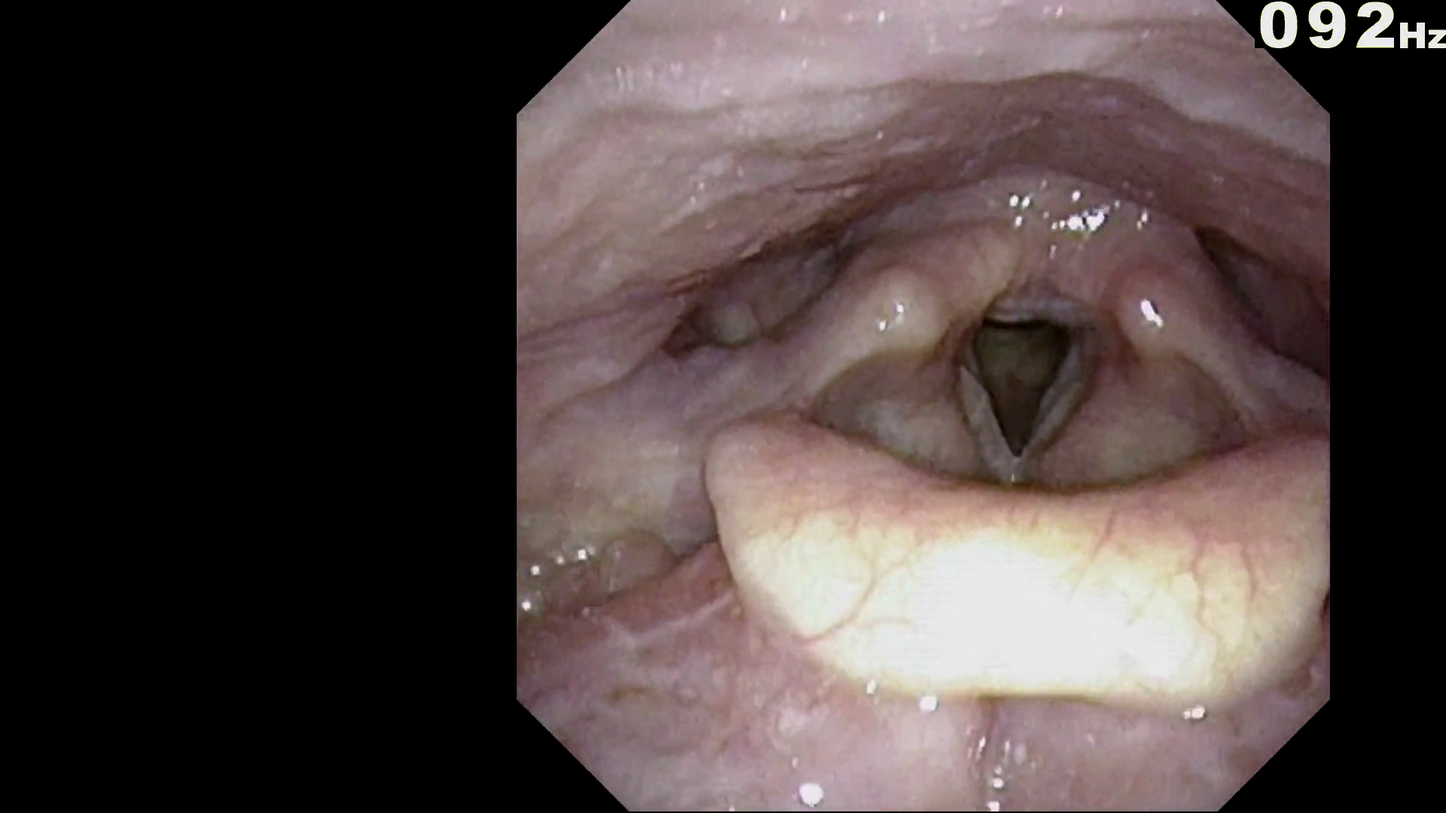epiglottis: (694, 399, 1314, 690)
trachea: (933, 279, 1113, 490)
